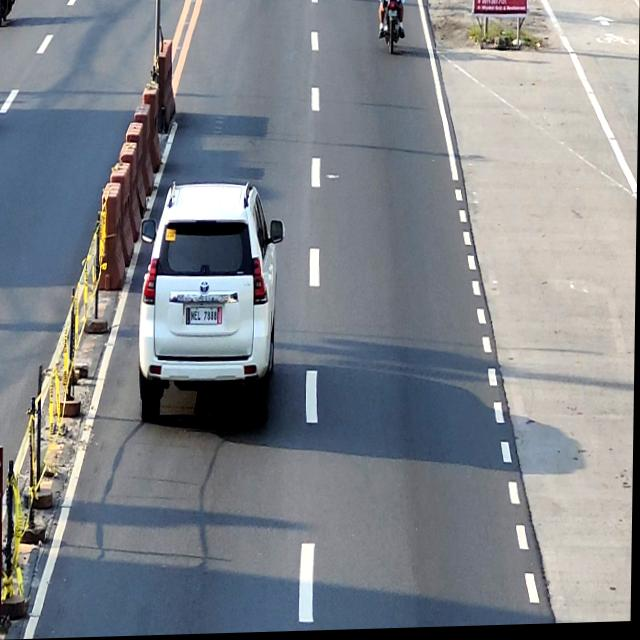Car: (139, 182, 286, 424)
License-Plate: (191, 309, 220, 327), (389, 11, 398, 21)
Motorcycle: (379, 0, 404, 54)
